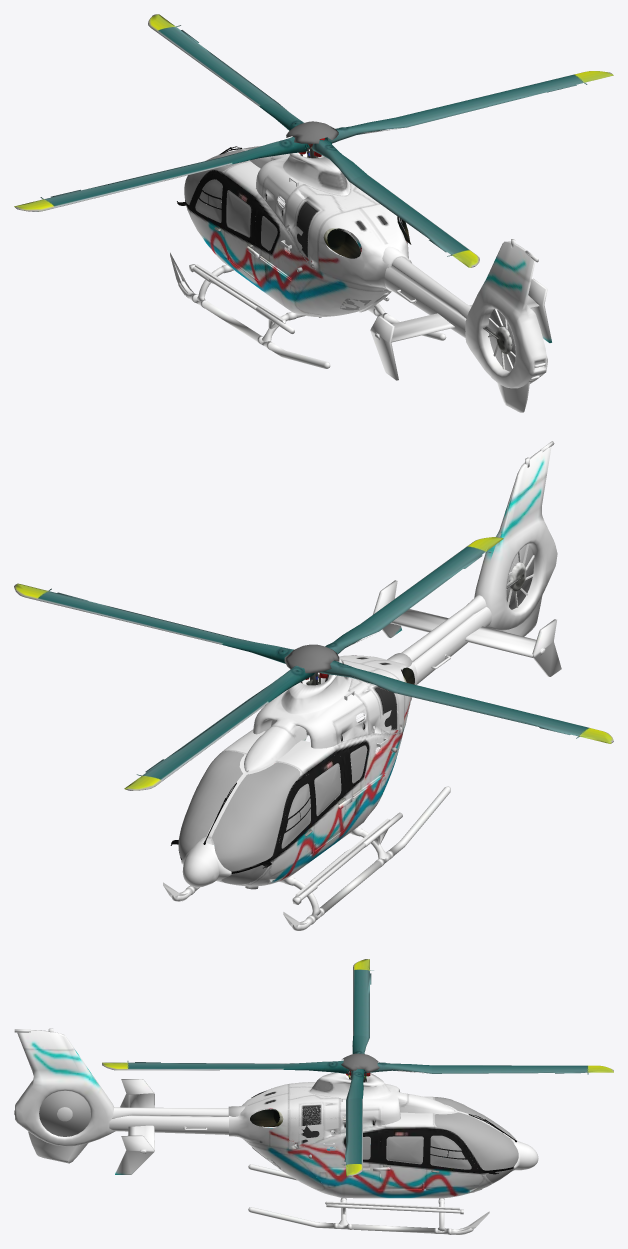
File: heli.glb
3 views of the same model, one above another, from view 1: azimuth 30°, elevation 25°; view 2: azimuth 150°, elevation 25°; view 3: azimuth 270°, elevation 25° (orthographic). The views are drawn at different scales.
Parts seen in each view (by area): view 1: DoubleCargoHook, blade1, BigRadom, rearwin_L, SLLight_L; view 2: DoubleCargoHook, blade1, rearwin_L, BigRadom; view 3: DoubleCargoHook, blade1, rearwin_L, BigRadom, SLLight_L.
Part boxes in pixels (x1,y1,x2,y2): DoubleCargoHook: (170, 149, 551, 412); blade1: (14, 14, 613, 267); BigRadom: (189, 121, 406, 333); rearwin_L: (184, 146, 515, 371); SLLight_L: (323, 216, 411, 258); DoubleCargoHook: (163, 441, 561, 930); blade1: (14, 536, 613, 790); rearwin_L: (178, 544, 533, 884); BigRadom: (181, 644, 402, 904); DoubleCargoHook: (14, 1028, 514, 1234); blade1: (102, 959, 613, 1176); rearwin_L: (39, 1090, 518, 1182); BigRadom: (249, 1053, 538, 1214); SLLight_L: (250, 1088, 283, 1126).
Bounding box in the file's own units: 10.1 × 3.98 × 11.84.
8 materials, 8 textured.
